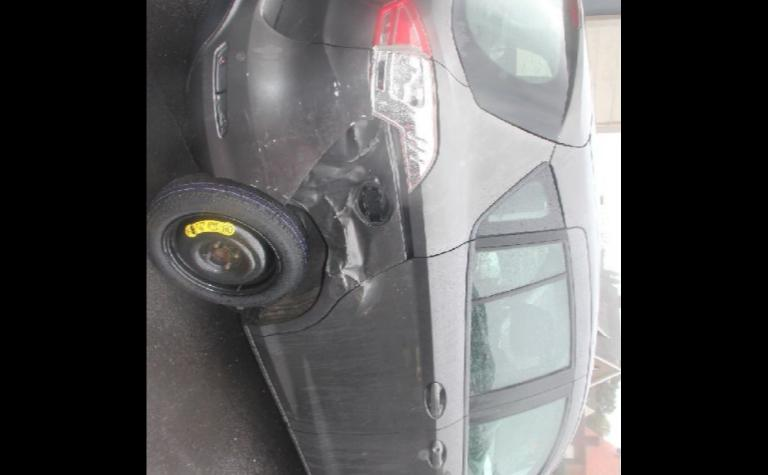Broken part: (280, 116, 374, 206)
Dent: (294, 118, 396, 324)
Missing part: (170, 216, 274, 294), (354, 182, 392, 226), (212, 42, 228, 136)
Scratch: (288, 125, 382, 290), (248, 182, 256, 188), (272, 186, 278, 192), (254, 178, 258, 184), (266, 184, 272, 188), (250, 184, 256, 188), (284, 194, 288, 198)
